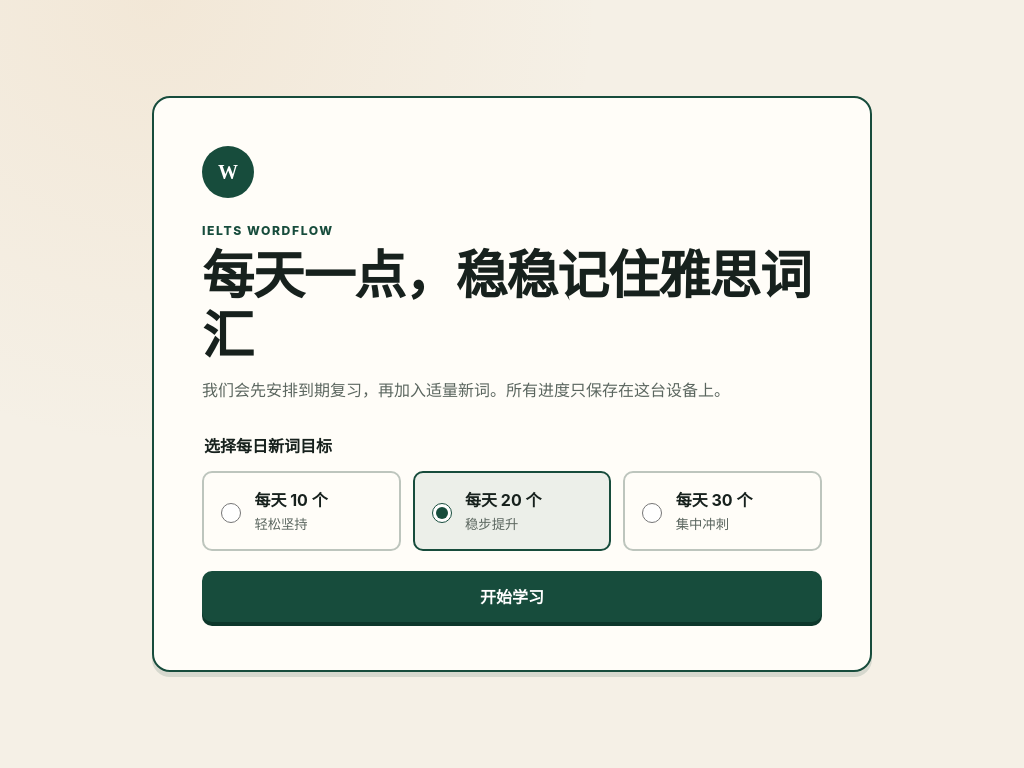
Test: OnboardingPage › saves the selected goal and enters the today page
Click the radio button labelled "每天 10 个": (231, 513) [221, 503, 241, 523]
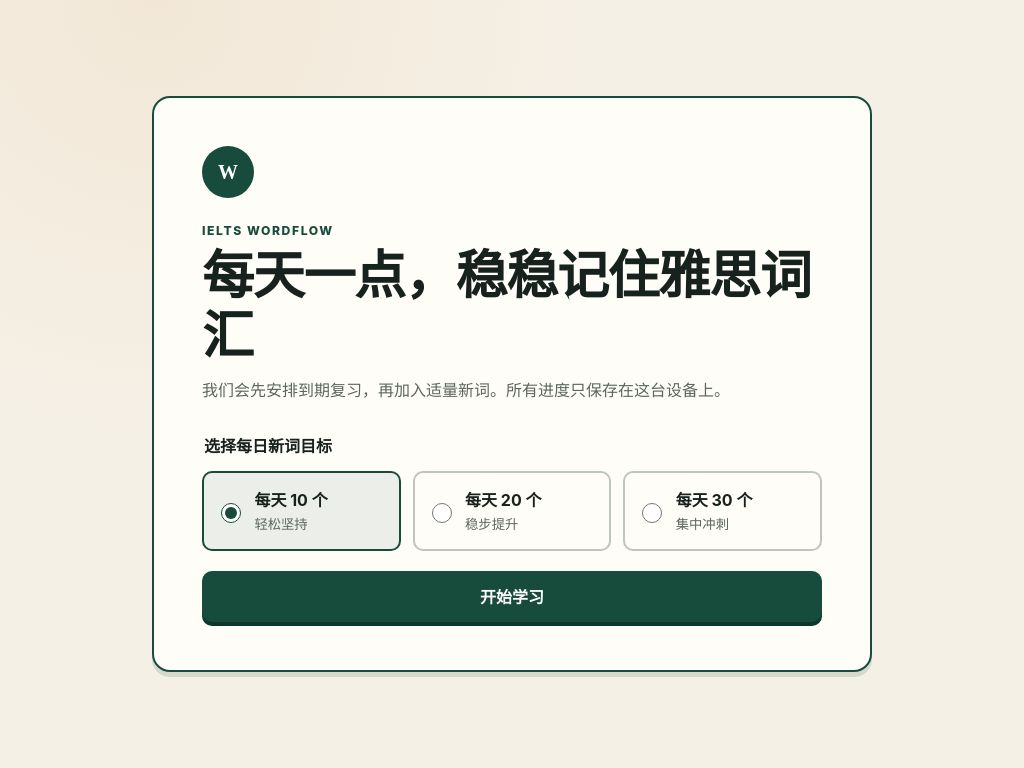
Click the button "开始学习": (512, 597) [202, 571, 822, 622]
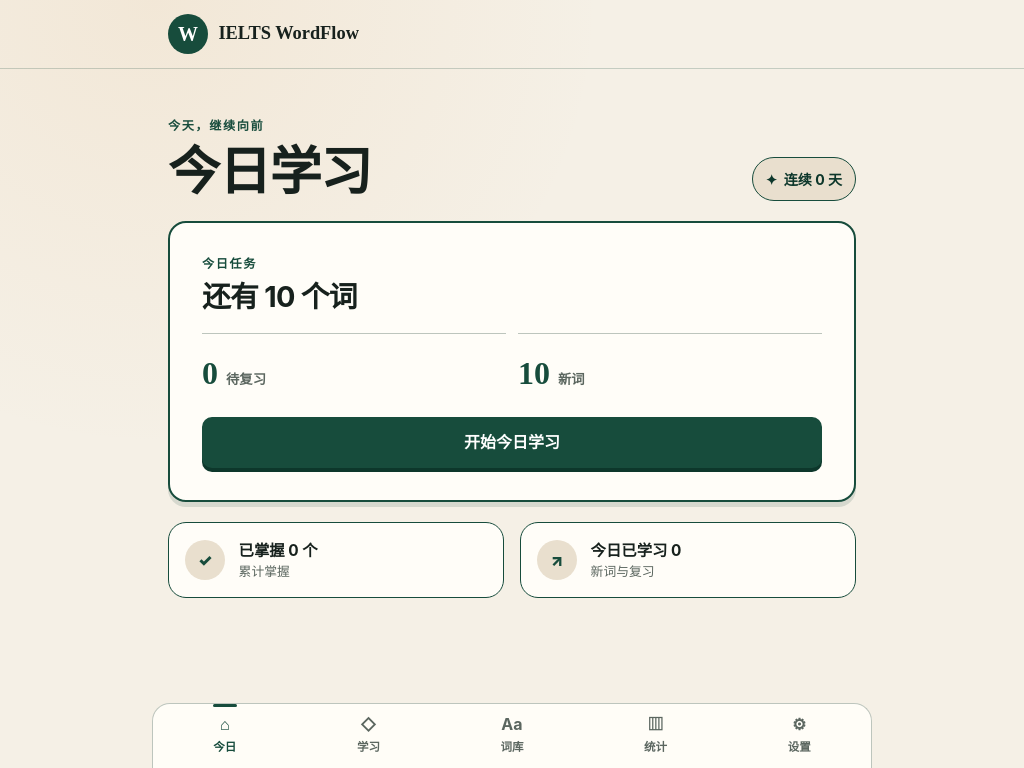
Now the heading "今日学习" is shown, box [168, 142, 371, 201]
Now the text "10" is shown, box [518, 348, 550, 396]
